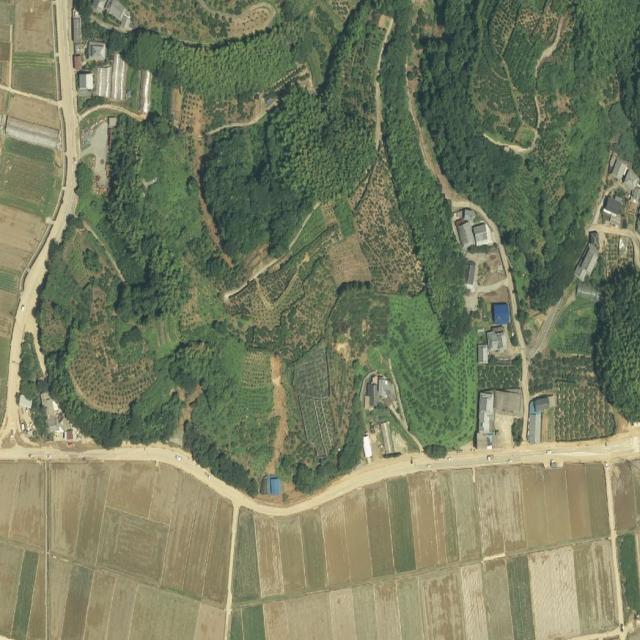landslide: (198, 189, 234, 267), (266, 354, 289, 473), (168, 384, 201, 447)
